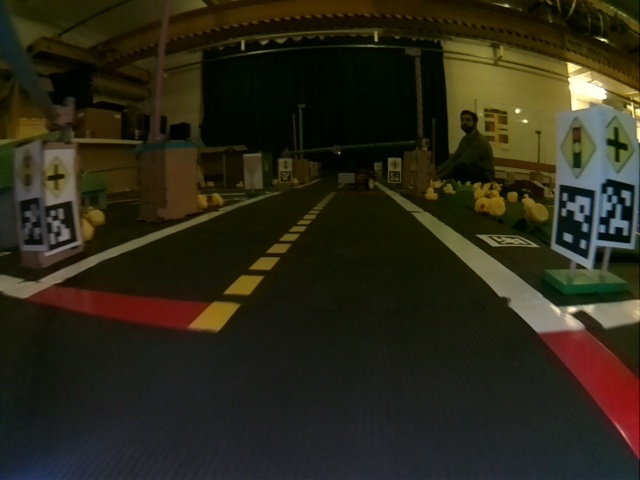Duckie: (527, 204, 546, 219), (488, 199, 505, 214), (474, 198, 487, 210), (424, 188, 438, 199), (211, 193, 224, 204), (444, 184, 454, 193), (524, 201, 534, 206)
Intersection sign: (602, 113, 637, 177), (47, 149, 75, 197)
QR code: (553, 182, 594, 265), (599, 182, 637, 249), (46, 202, 78, 255), (19, 197, 43, 249), (479, 235, 538, 246), (391, 173, 401, 182)
Signal sign: (561, 116, 598, 178), (16, 148, 42, 191)
